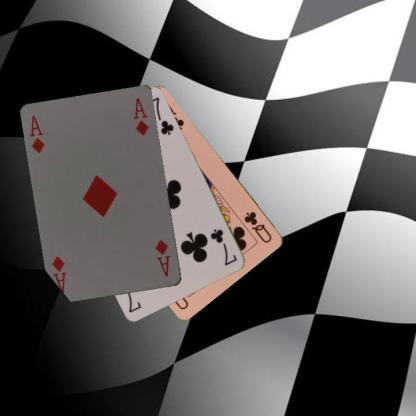7c: (208, 226, 239, 267)
Ad: (152, 236, 172, 278), (27, 113, 47, 155)
Qc: (241, 209, 274, 244)
